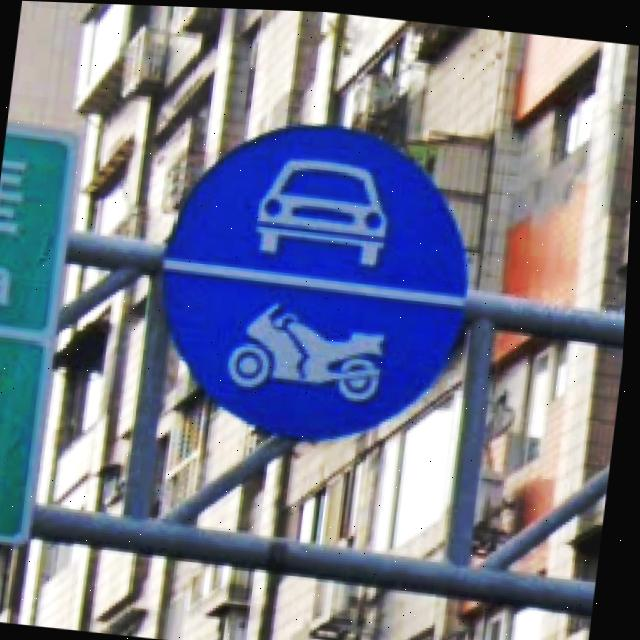carmotorcycle: (165, 123, 470, 437)
